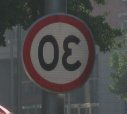Speed limit: (18, 11, 100, 92)
